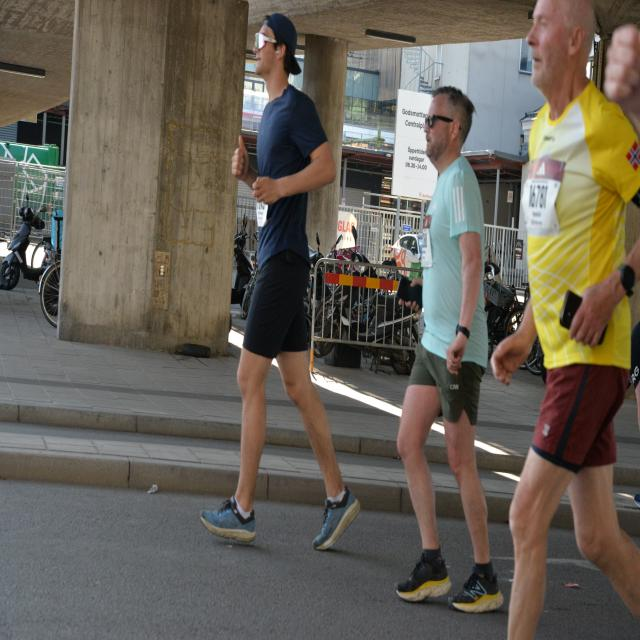runner-detect: (196, 6, 362, 578), (389, 64, 506, 616)
